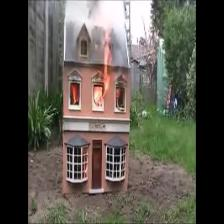fire: (96, 28, 114, 104), (70, 85, 78, 107)
